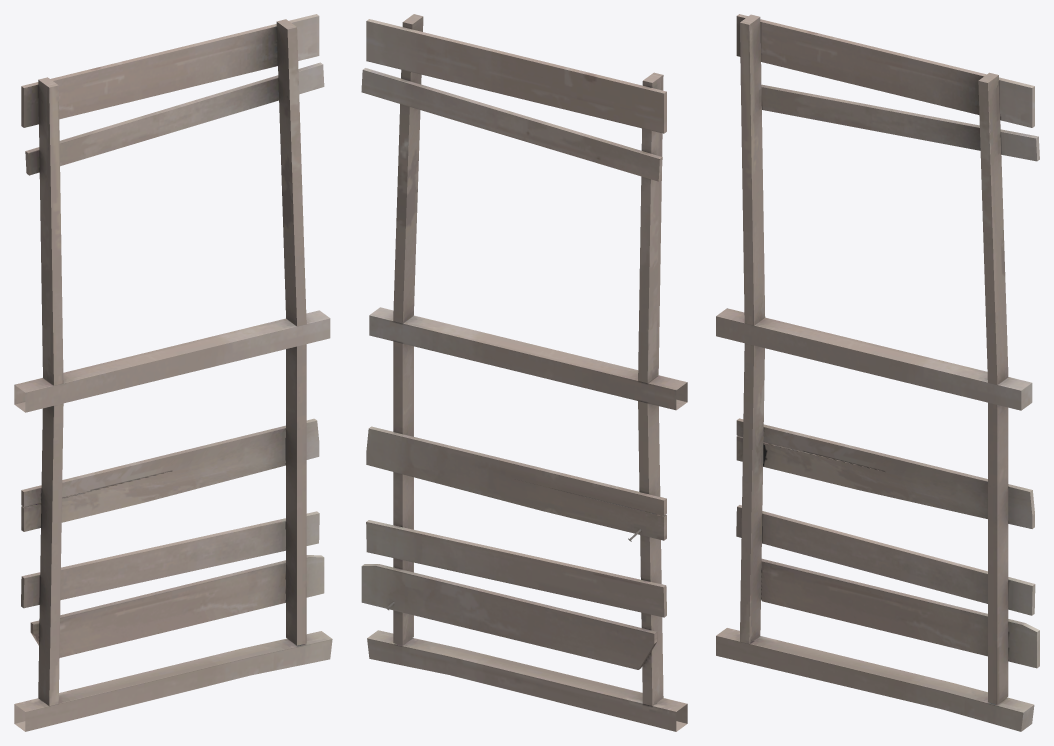
The model's file is props_mining_fence003_reference.glb.
3 renders of one model, left to right at view 1: azimuth 30°, elevation 25°; view 2: azimuth 150°, elevation 25°; view 3: azimuth 330°, elevation 25°, orthographic.
Parts seen in each view (by area): view 1: models/props_mining/fence003_reference; view 2: models/props_mining/fence003_reference; view 3: models/props_mining/fence003_reference.
Part boxes in pixels (box(x1,y1,x2,y2)): models/props_mining/fence003_reference: box(14, 14, 332, 731); models/props_mining/fence003_reference: box(361, 14, 687, 731); models/props_mining/fence003_reference: box(716, 14, 1039, 731).
Bounding box in the file's own units: 65.03 × 128 × 8.12.
1 material, 1 textured.
